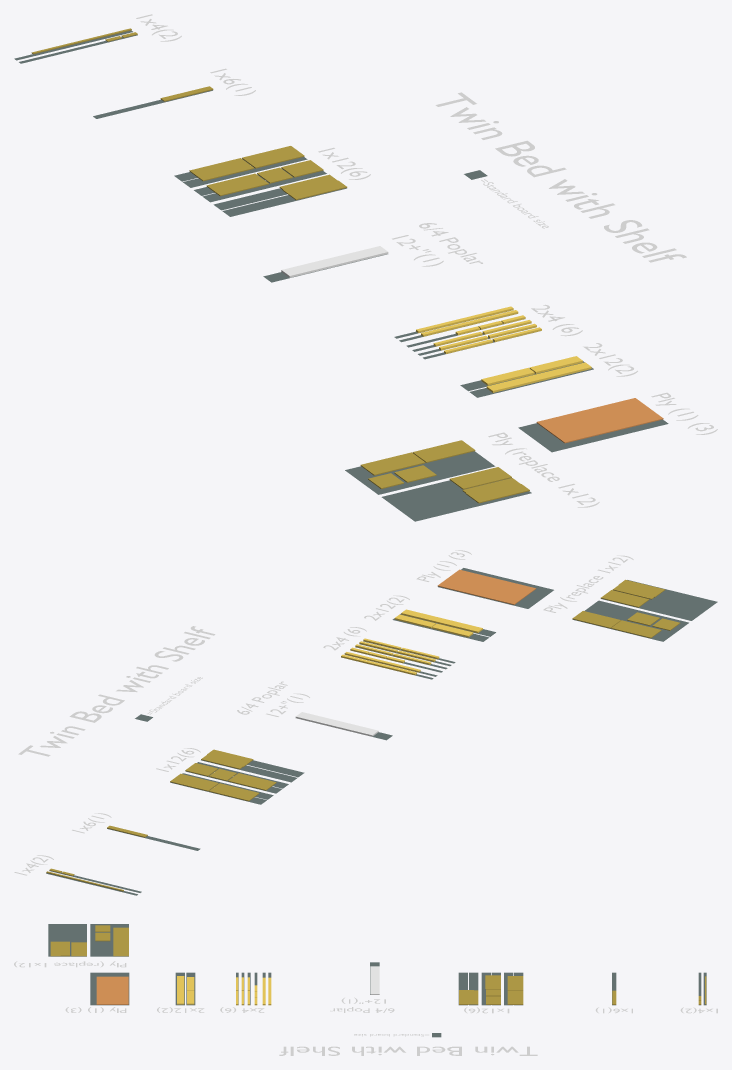
File: bunks-wood-twin.glb
3 views of the same model, one above another, from view 1: azimuth 30°, elevation 25°; view 2: azimuth 150°, elevation 25°; view 3: azimuth 270°, elevation 25° (orthographic). The views are drawn at different scales.
Visible parts, largest first — view 1: platform-twin-xl.001, Text.007, Plane.107, Plane.106, Plane.008, rail-bottom-left.001, foot-shelf-back.001, foot-shelf-back.002, rail-bottom-right.001, foot-shelf-top.001, foot-shelf-top.002; view 2: platform-twin-xl.001, Text.007, Plane.107, Plane.106, Plane.008, rail-bottom-left.001, foot-shelf-back.001, foot-shelf-back.002; view 3: Text.007, platform-twin-xl.001, Plane.107, Plane.106, Plane.008, foot-shelf-back.002, foot-shelf-back.001, rail-bottom-left.001, Text.003, foot-shelf-top.001, foot-shelf-bottom.001, foot-shelf-shelf.001 (+3 smaller).
Part boxes in pixels (x1,y1,x2,y2): platform-twin-xl.001: [536, 398, 663, 443]; Text.007: [435, 92, 686, 262]; Plane.107: [381, 478, 531, 521]; Plane.106: [345, 451, 495, 494]; Plane.008: [518, 419, 668, 452]; rail-bottom-left.001: [281, 246, 388, 277]; foot-shelf-back.001: [279, 174, 347, 200]; foot-shelf-back.002: [462, 478, 529, 503]; rail-bottom-right.001: [486, 362, 591, 392]; foot-shelf-top.001: [189, 158, 254, 181]; foot-shelf-top.002: [360, 452, 425, 475]; platform-twin-xl.001: [437, 569, 536, 604]; Text.007: [18, 626, 215, 756]; Plane.107: [601, 580, 717, 620]; Plane.106: [572, 600, 688, 641]; Plane.008: [438, 568, 553, 608]; rail-bottom-left.001: [295, 712, 378, 736]; foot-shelf-back.001: [201, 749, 253, 769]; foot-shelf-back.002: [612, 579, 665, 599]; Text.007: [279, 1046, 537, 1055]; platform-twin-xl.001: [96, 976, 128, 1004]; Plane.107: [48, 924, 86, 956]; Plane.106: [90, 924, 128, 956]; Plane.008: [90, 972, 129, 1005]; foot-shelf-back.002: [50, 941, 69, 956]; foot-shelf-back.001: [459, 990, 478, 1004]; rail-bottom-left.001: [370, 966, 379, 994]; Text.003: [14, 961, 126, 967]; foot-shelf-top.001: [507, 976, 523, 990]; foot-shelf-bottom.001: [507, 990, 523, 1004]; foot-shelf-shelf.001: [485, 975, 500, 989].
Bounding box in the file's own units: 9.88 × 0.0403 × 22.17.
